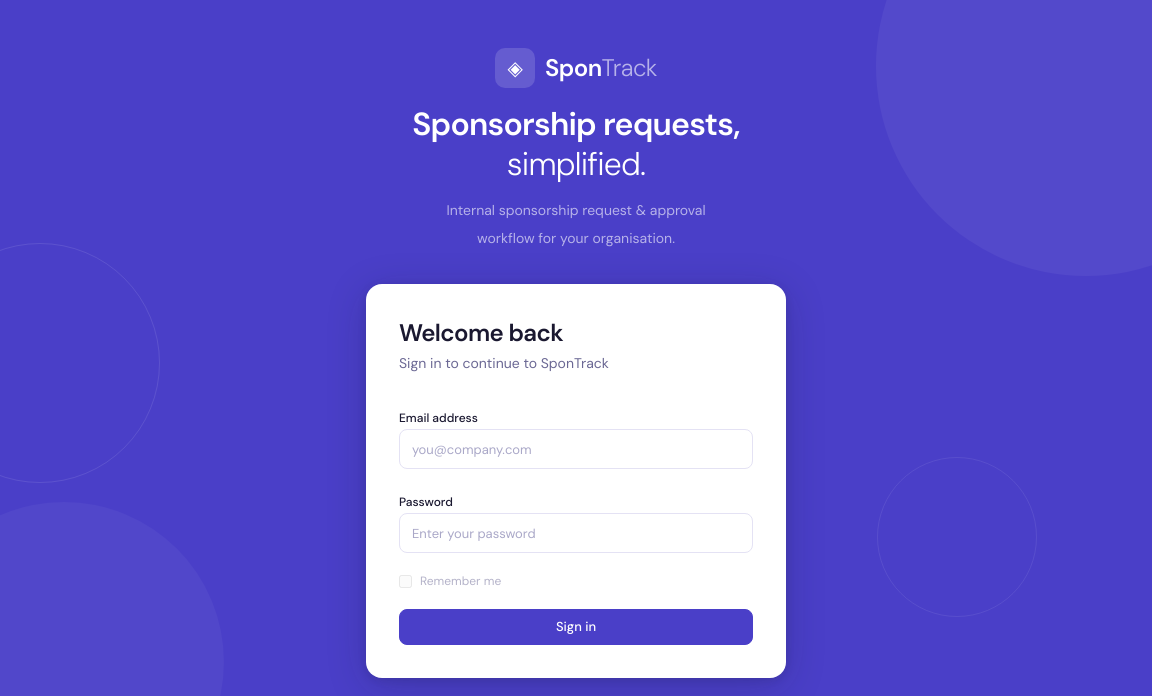
LoginPage › shows an error when login fails
Type "requestor@demo.local" into the field labelled "Email address" at [576, 449], box x1=399 y1=429 x2=753 y2=469
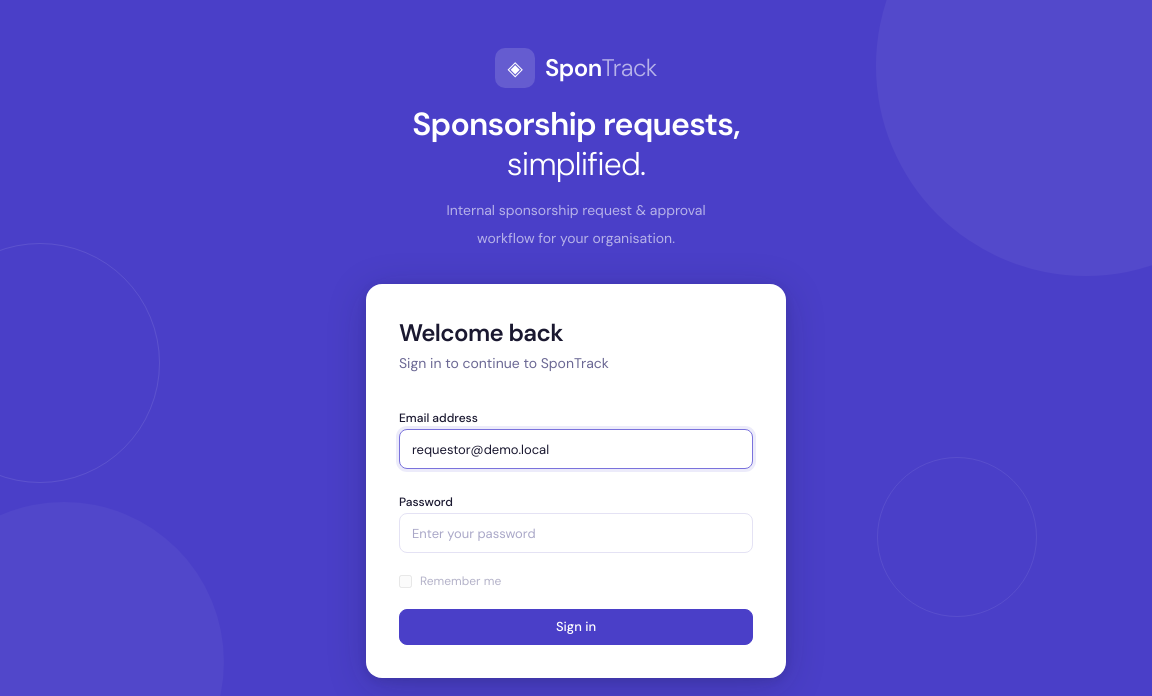
Type "wrong-password" into the password field labelled "Password" at [576, 533], box x1=399 y1=513 x2=753 y2=553
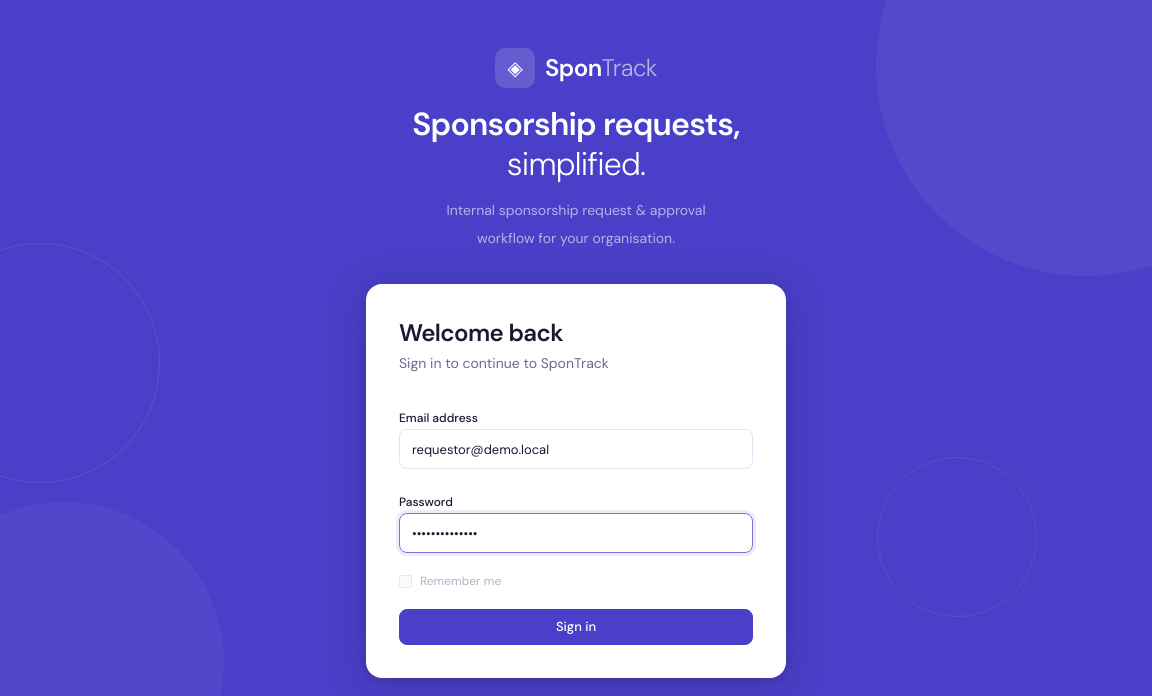
Click the button "Sign in" at [576, 627], box x1=399 y1=609 x2=753 y2=645
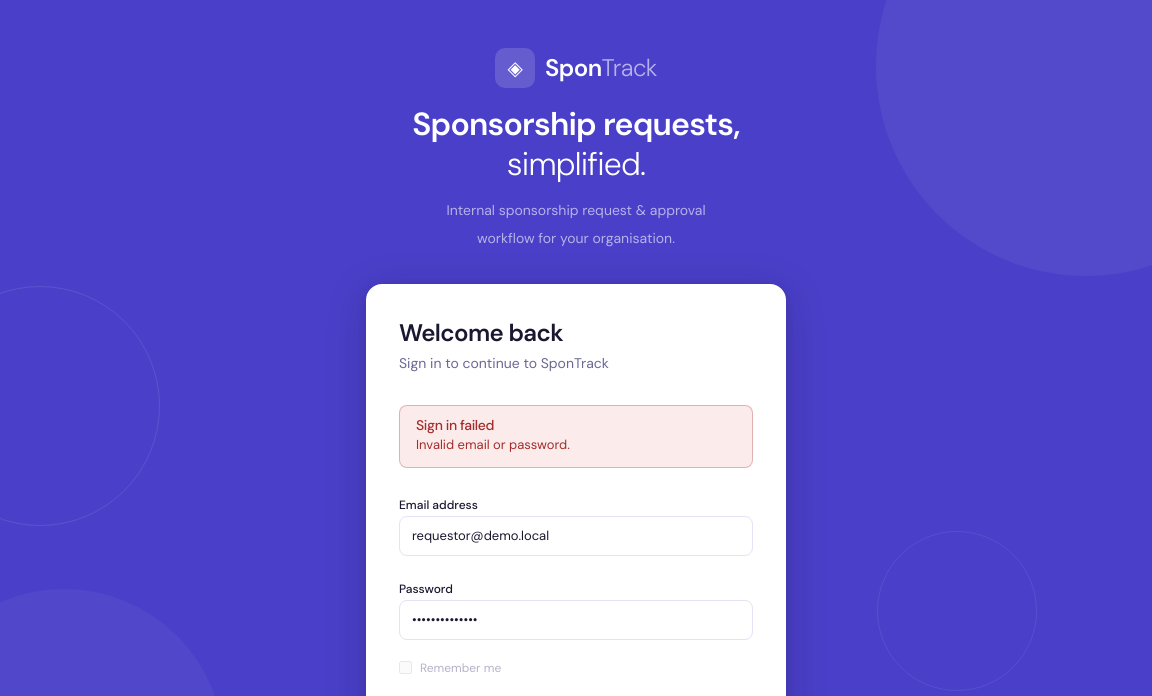
Expected: the text "Invalid email or password." is shown, x1=416 y1=436 x2=570 y2=453
